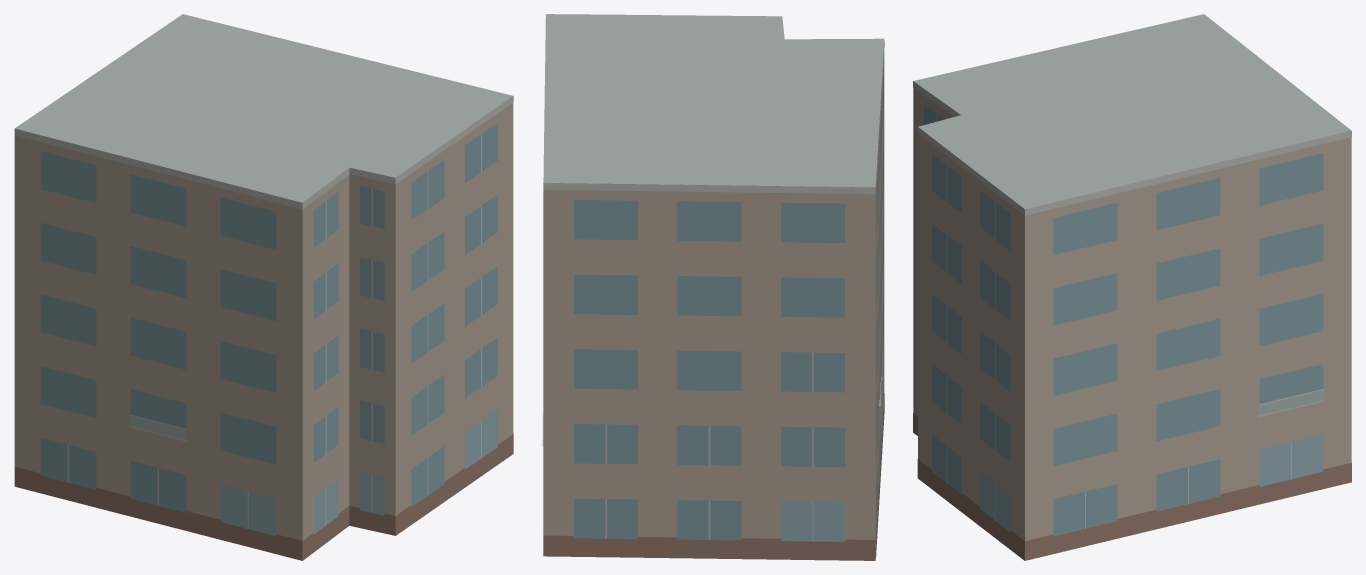
Rendered from survey-upis-33009568.glb.
3 views of the same model, side by side, from view 1: azimuth 30°, elevation 25°; view 2: azimuth 150°, elevation 25°; view 3: azimuth 270°, elevation 25° (orthographic). The views are drawn at different scales.
Visible parts, largest first — view 1: survey-upis-33009568.tmp; view 2: survey-upis-33009568.tmp; view 3: survey-upis-33009568.tmp.
Part boxes in pixels (bbox=[...]): survey-upis-33009568.tmp: bbox=[14, 14, 513, 560]; survey-upis-33009568.tmp: bbox=[542, 14, 884, 560]; survey-upis-33009568.tmp: bbox=[913, 14, 1351, 560].
Bounding box in the file's own units: 15.73 × 13.2 × 14.93.
